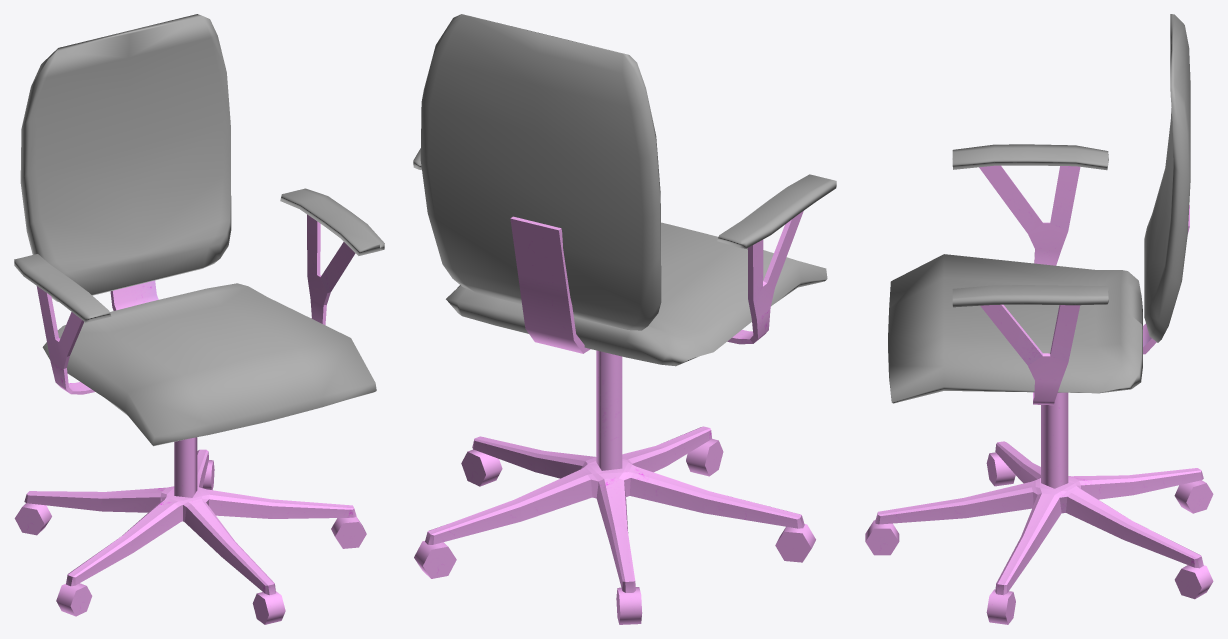
The model's file is Chair_01_SM_Low.fbx.
The picture shows the model from 3 angles, left to right: view 1: azimuth 30°, elevation 25°; view 2: azimuth 150°, elevation 25°; view 3: azimuth 270°, elevation 25°; orthographic projection. The views are drawn at different scales.
Visible parts, largest first — view 1: back, seat, legs, back_support, polySurface1, polySurface2, pCylinder1, Wheel4, Wheel3, Wheel, Wheel1; view 2: back, seat, legs, back_support, polySurface2, pCylinder1, Wheel2, Wheel4, Wheel1, Wheel, Wheel3; view 3: seat, legs, back, back_support, polySurface2, polySurface1, pCylinder1, Wheel2, Wheel, Wheel3, Wheel1, Wheel4.
Boxes of the visible parts, bbox=[...] form: back: bbox=[20, 14, 231, 301]; seat: bbox=[42, 283, 376, 446]; legs: bbox=[24, 449, 356, 595]; back_support: bbox=[36, 214, 355, 394]; polySurface1: bbox=[280, 188, 384, 255]; polySurface2: bbox=[14, 254, 111, 322]; pCylinder1: bbox=[174, 437, 197, 497]; Wheel4: bbox=[56, 583, 92, 616]; Wheel3: bbox=[14, 503, 51, 535]; Wheel: bbox=[252, 591, 285, 624]; Wheel1: bbox=[331, 517, 366, 548]; back: bbox=[420, 14, 661, 330]; seat: bbox=[446, 222, 827, 366]; legs: bbox=[425, 426, 804, 592]; back_support: bbox=[510, 211, 803, 353]; polySurface2: bbox=[717, 174, 836, 248]; pCylinder1: bbox=[596, 350, 622, 470]; Wheel2: bbox=[414, 541, 456, 578]; Wheel4: bbox=[775, 524, 815, 562]; Wheel1: bbox=[461, 449, 502, 486]; Wheel: bbox=[686, 439, 723, 476]; Wheel3: bbox=[616, 587, 642, 624]; seat: bbox=[888, 254, 1142, 403]; legs: bbox=[875, 441, 1203, 595]; back: bbox=[1144, 14, 1190, 342]; back_support: bbox=[979, 165, 1189, 405]; polySurface2: bbox=[952, 144, 1108, 170]; polySurface1: bbox=[952, 285, 1108, 307]; pCylinder1: bbox=[1041, 392, 1068, 488]; Wheel2: bbox=[1174, 565, 1213, 599]; Wheel: bbox=[865, 520, 899, 555]; Wheel3: bbox=[1174, 480, 1213, 513]; Wheel1: bbox=[986, 589, 1015, 624]; Wheel4: bbox=[986, 452, 1015, 486].
Bounding box in the file's own units: 99.13 × 150 × 94.28.
Materials: 2 (1 with a texture image).
